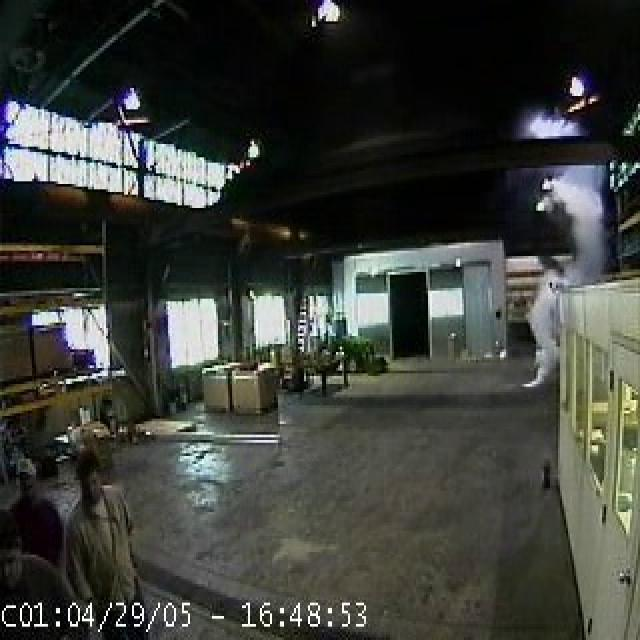smoke: (525, 156, 595, 410)
